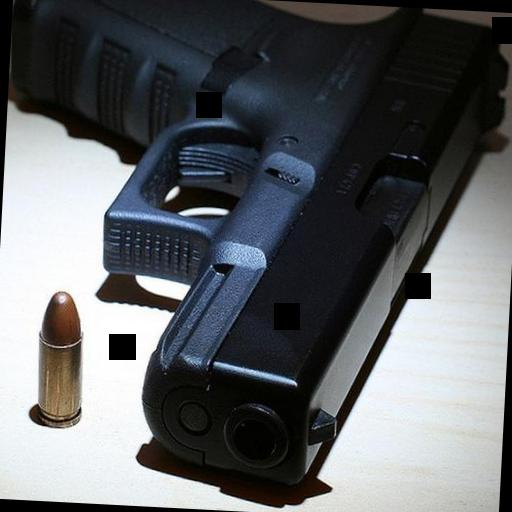Handgun: (0, 0, 511, 502)
